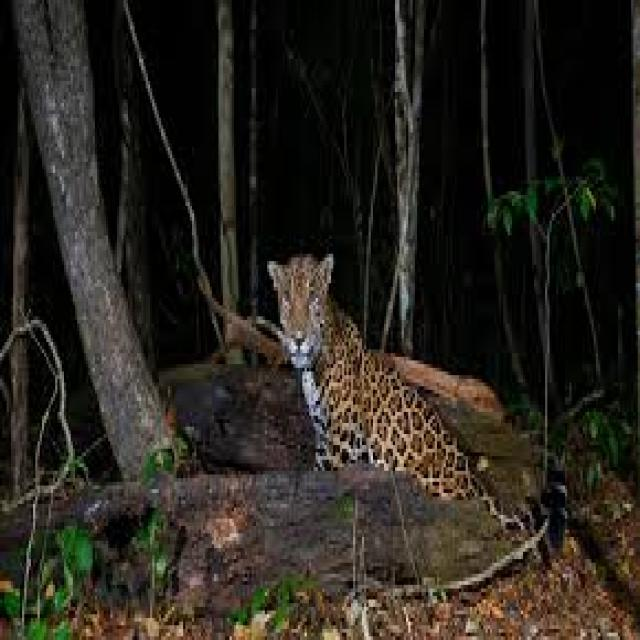Jaguar: (262, 246, 520, 544)
